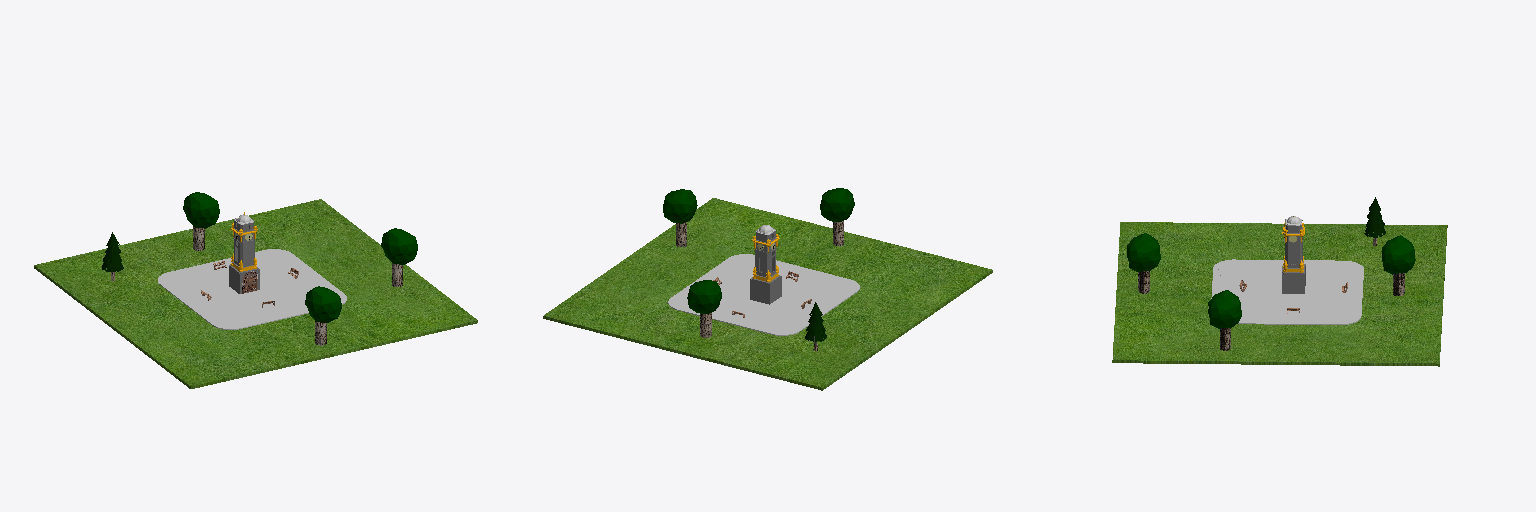
3 renders of one model, left to right at view 1: azimuth 30°, elevation 25°; view 2: azimuth 150°, elevation 25°; view 3: azimuth 270°, elevation 25°, orthographic.
Visible parts, largest first — view 1: Plane.001_Plane, Cylinder.001_Cylinder.023, Cylinder_Cylinder.022, Cylinder.002_Cylinder.024, Cube.001, NatureFreePack1.003; view 2: Plane.001_Plane, Cylinder_Cylinder.022, Cylinder.002_Cylinder.024, Cylinder.001_Cylinder.023, Cube.001, NatureFreePack1.003; view 3: Plane.001_Plane, Cylinder.001_Cylinder.023, Cylinder_Cylinder.022, Cylinder.002_Cylinder.024, NatureFreePack1.003.
Part boxes in pixels (bbox=[...]): Plane.001_Plane: bbox=[34, 199, 477, 388]; Cylinder.001_Cylinder.023: bbox=[305, 286, 341, 345]; Cylinder_Cylinder.022: bbox=[183, 192, 219, 250]; Cylinder.002_Cylinder.024: bbox=[381, 228, 417, 286]; Cube.001: bbox=[229, 265, 259, 293]; NatureFreePack1.003: bbox=[102, 232, 123, 280]; Plane.001_Plane: bbox=[543, 198, 992, 390]; Cylinder_Cylinder.022: bbox=[687, 280, 721, 337]; Cylinder.002_Cylinder.024: bbox=[663, 189, 697, 246]; Cylinder.001_Cylinder.023: bbox=[820, 188, 854, 245]; Cube.001: bbox=[750, 276, 781, 304]; NatureFreePack1.003: bbox=[805, 302, 826, 350]; Plane.001_Plane: bbox=[1112, 222, 1447, 366]; Cylinder.001_Cylinder.023: bbox=[1127, 233, 1160, 293]; Cylinder_Cylinder.022: bbox=[1382, 235, 1415, 295]; Cylinder.002_Cylinder.024: bbox=[1208, 290, 1241, 350]; NatureFreePack1.003: bbox=[1364, 197, 1385, 245].
Bounding box in the file's own units: 60 × 15.7 × 60.
Materials: 14 (6 with a texture image).